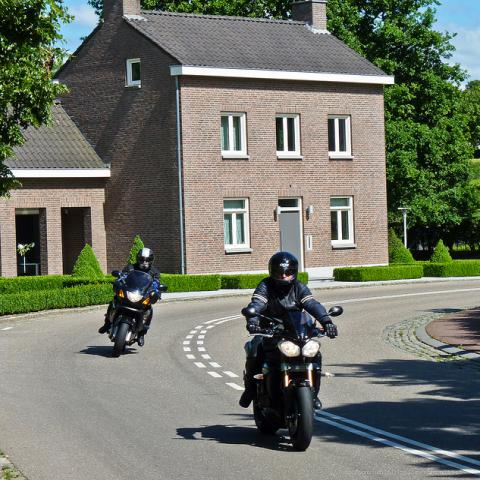motorcycle: (246, 307, 342, 451), (108, 268, 168, 358)
